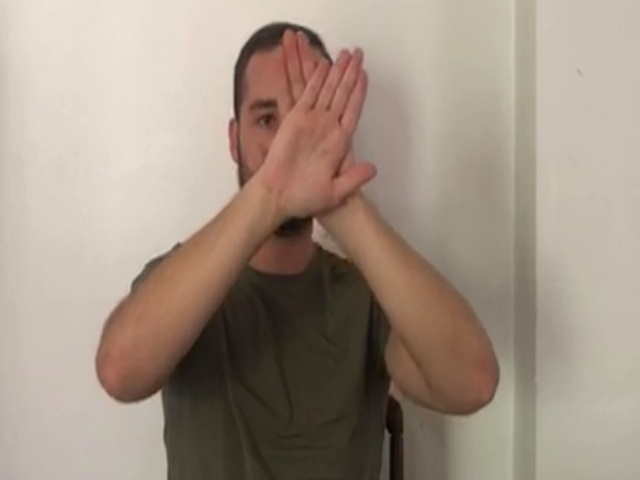Stemneto: (245, 26, 380, 223)
